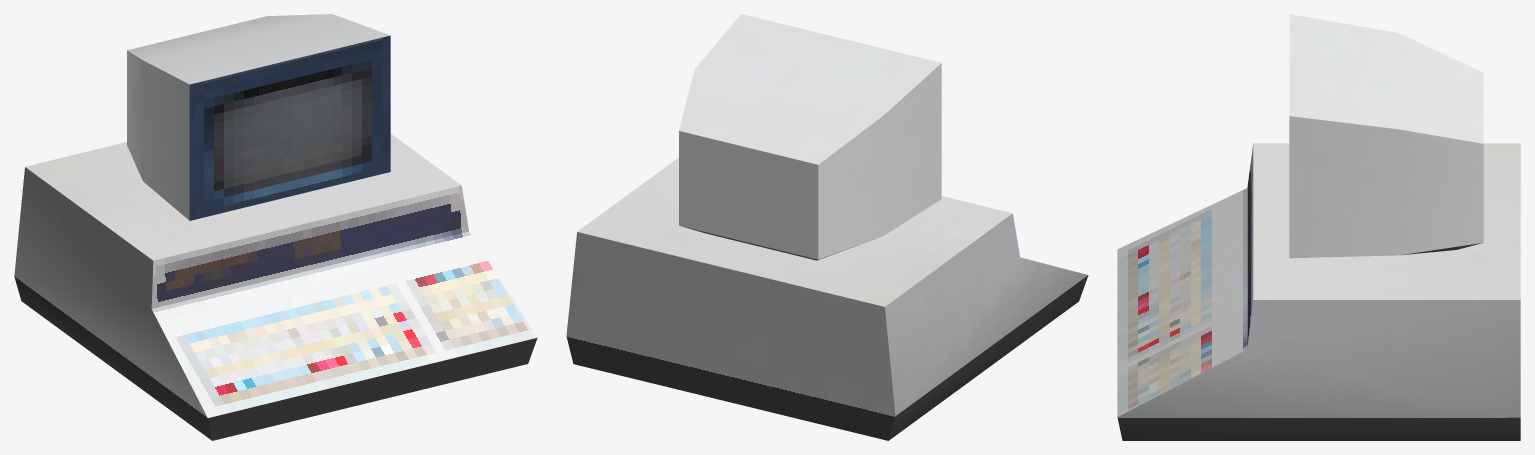
Rendered from ComputerTerminal.obj.
The picture shows the model from 3 angles, left to right: view 1: azimuth 30°, elevation 25°; view 2: azimuth 150°, elevation 25°; view 3: azimuth 270°, elevation 25°; orthographic projection. The views are drawn at different scales.
Visible parts, largest first — view 1: pCube2; view 2: pCube2; view 3: pCube2.
Part boxes in pixels (x1=…): pCube2: x1=14, y1=14, x2=537, y2=440; pCube2: x1=566, y1=14, x2=1088, y2=440; pCube2: x1=1117, y1=14, x2=1520, y2=440.
Bounding box in the file's own units: 0.9843 × 0.8092 × 1.
